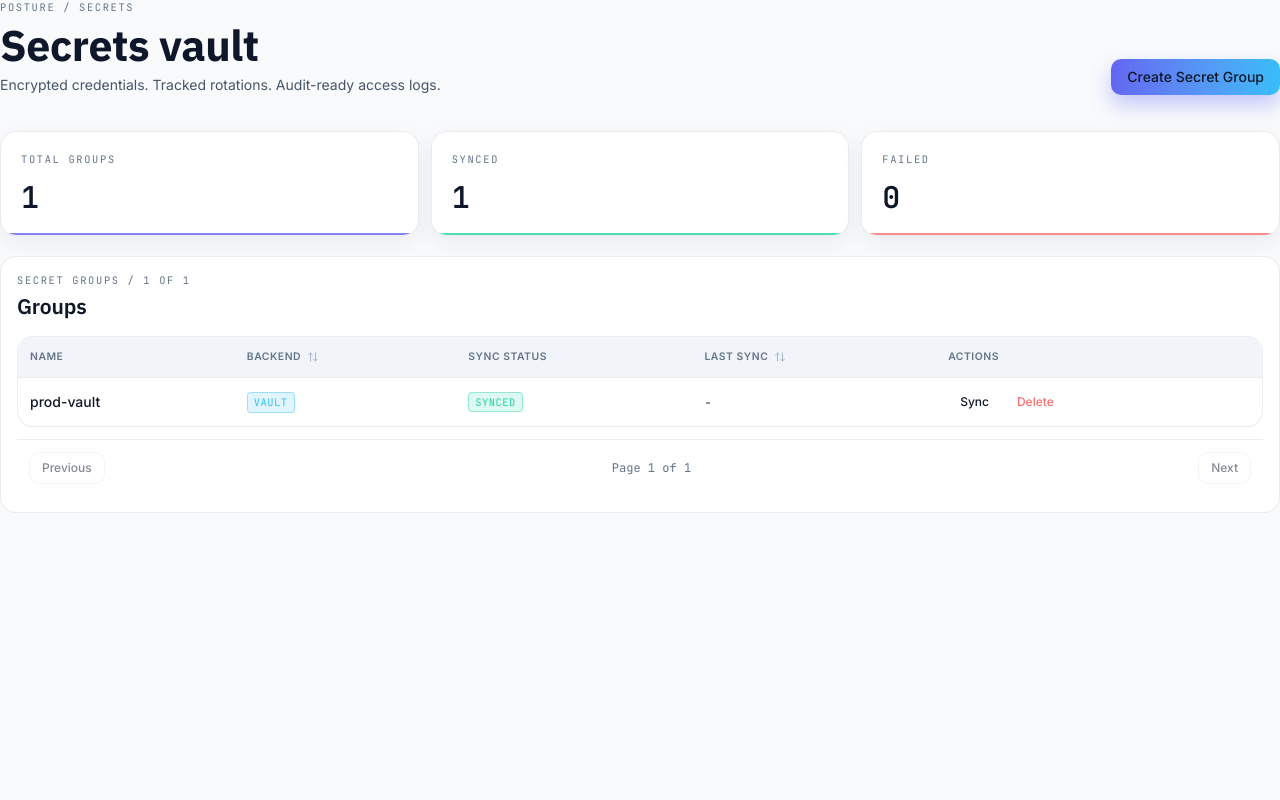
Test: Secrets › keeps a failed delete visible in the confirmation modal
Click the button with aria-label "delete secret group prod-vault": click(1035, 402) [1005,386,1066,418]
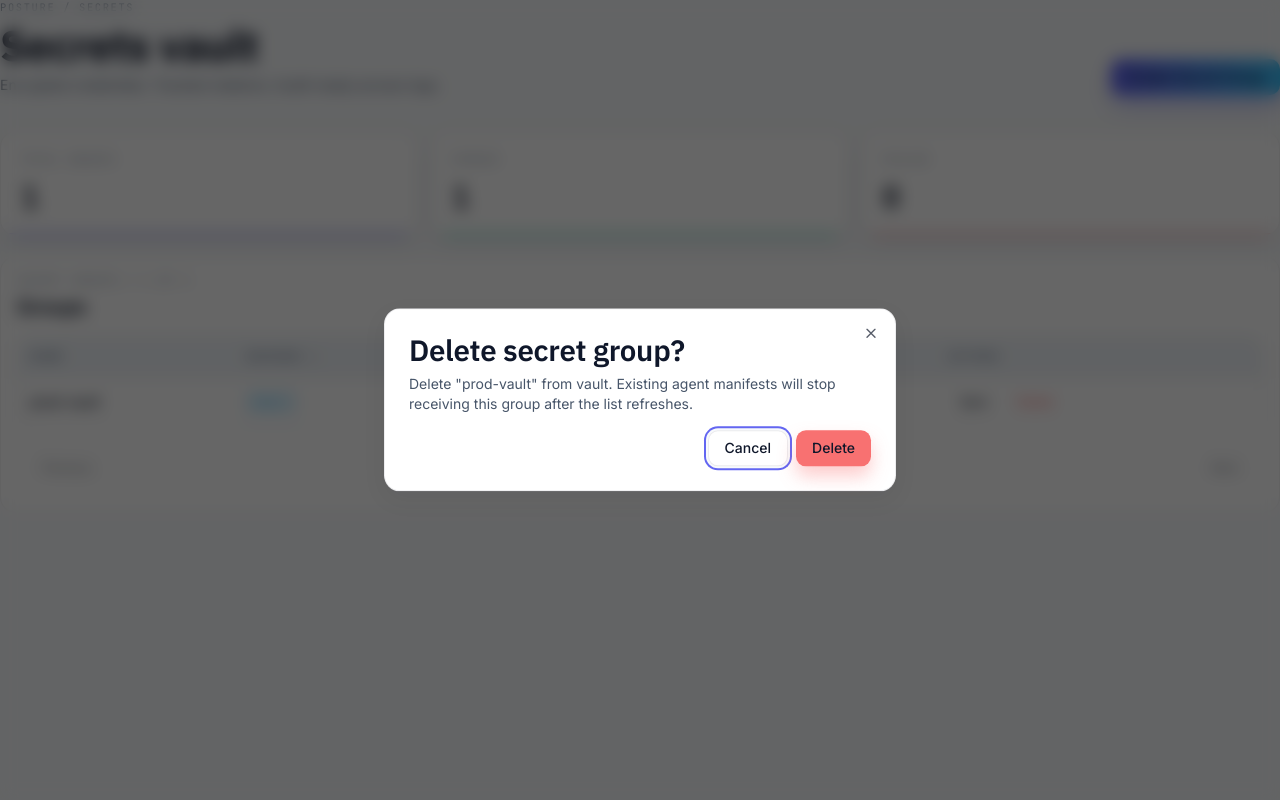
Click the button "Delete": click(834, 449) [796,431,871,467]
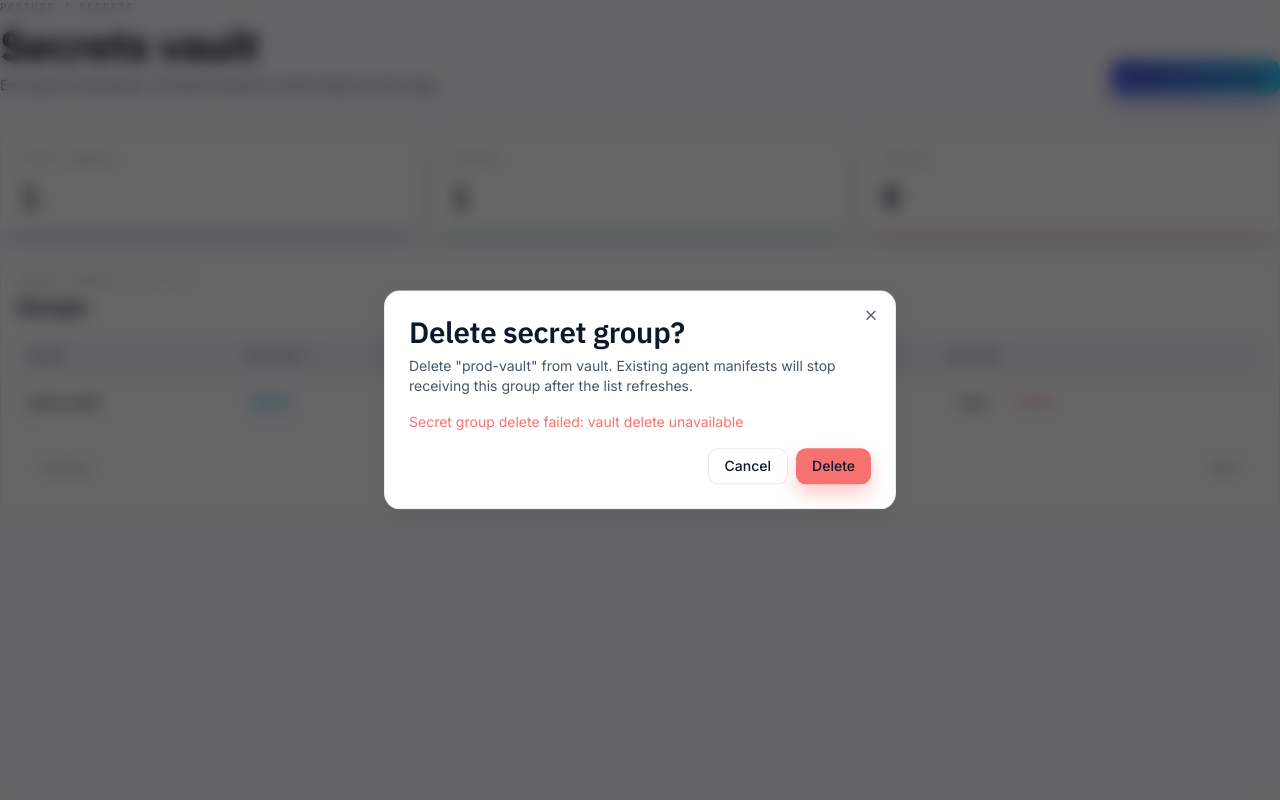
Check: the dialog "Delete secret group" is shown, box [384,290,896,510]
Check: the message reads "Secret group delete failed: vault delete unavailable", box [409,414,743,431]
